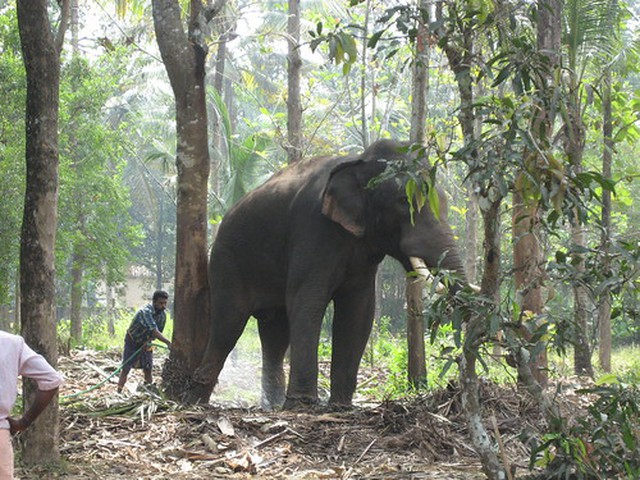Elephant: (201, 136, 475, 408)
Person: (1, 324, 61, 478), (121, 291, 172, 395)
